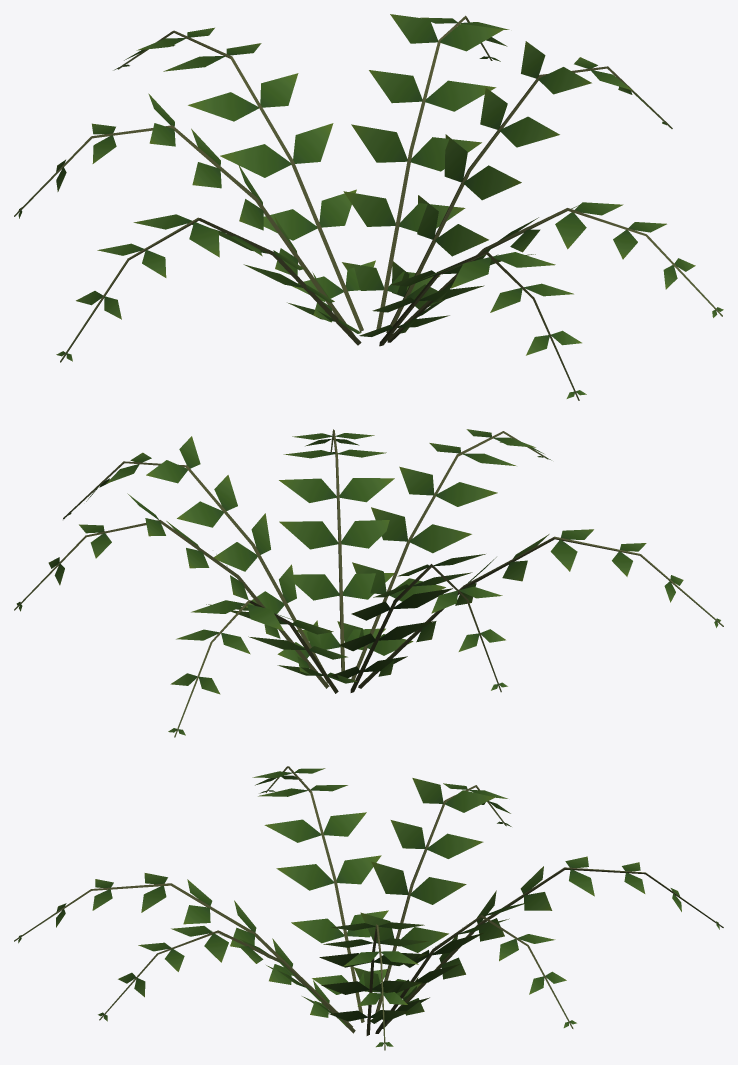
Rendered from fern-sword.lod1.glb.
The picture shows the model from 3 angles, top to bottom: view 1: azimuth 30°, elevation 25°; view 2: azimuth 150°, elevation 25°; view 3: azimuth 270°, elevation 25°; orthographic projection. The views are drawn at different scales.
Parts seen in each view (by area): view 1: fern_sword_mesh; view 2: fern_sword_mesh; view 3: fern_sword_mesh.
Part boxes in pixels (x1,y1,x2,y2): fern_sword_mesh: [14, 14, 723, 400]; fern_sword_mesh: [14, 429, 723, 737]; fern_sword_mesh: [14, 766, 723, 1050].
Bounding box in the file's own units: 1.69 × 0.5335 × 1.9.
Materials: 1 (1 with a texture image).
